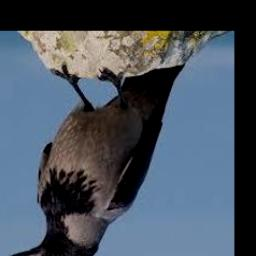Crow: (9, 62, 186, 256)
